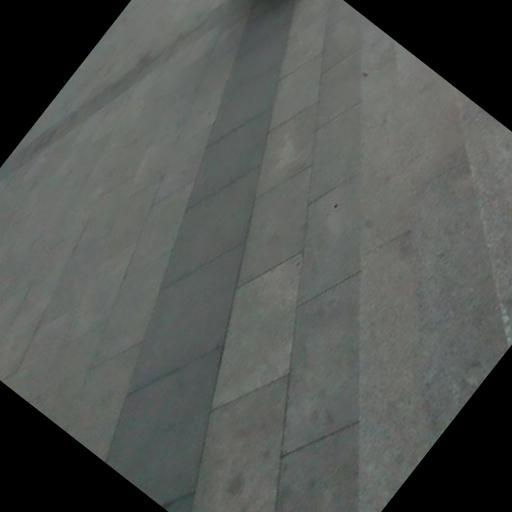stairs: (358, 19, 511, 511), (463, 97, 511, 345)
